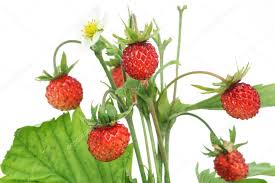ripe: (40, 69, 84, 115), (120, 38, 162, 85), (217, 79, 263, 121), (85, 121, 131, 160), (209, 141, 251, 182)
